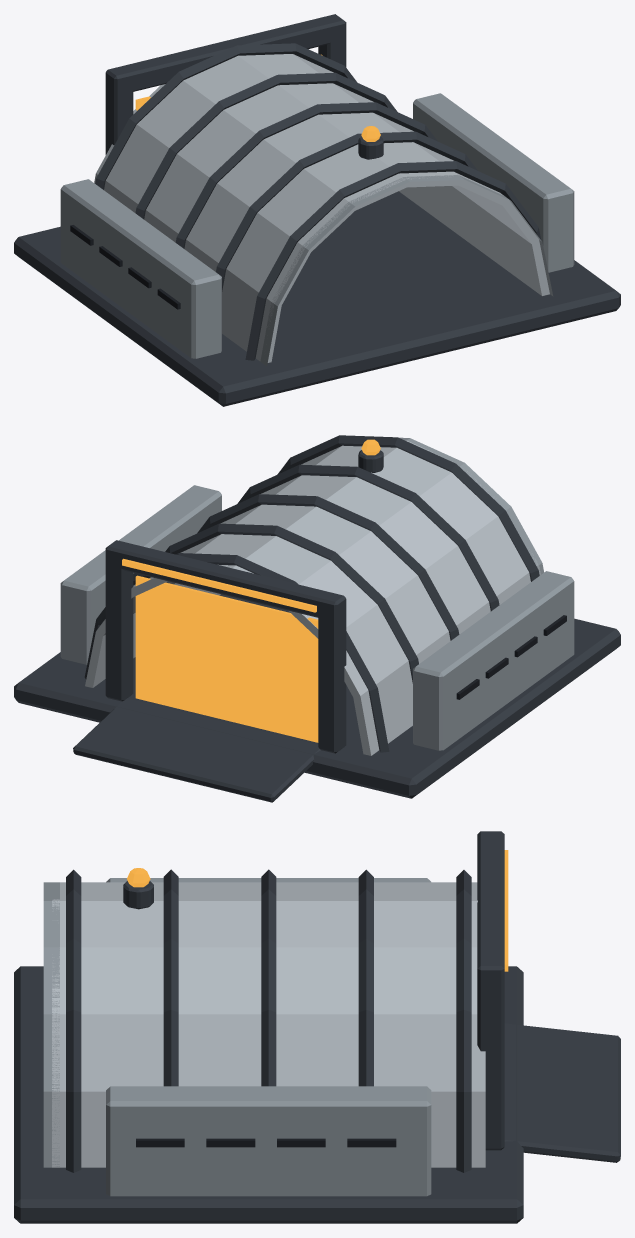
File: exo-bay.glb
3 renders of one model, top to bottom at view 1: azimuth 30°, elevation 25°; view 2: azimuth 150°, elevation 25°; view 3: azimuth 270°, elevation 25°, orthographic. The views are drawn at different scales.
Visible parts, largest first — view 1: body; view 2: body, door; view 3: body.
Boxes of the visible parts, bbox=[...] form: body: bbox=[14, 14, 620, 406]; body: bbox=[14, 435, 620, 802]; door: bbox=[135, 575, 318, 742]; body: bbox=[14, 831, 620, 1223].
Bounding box in the file's own units: 10.4 × 4.87 × 11.2.
